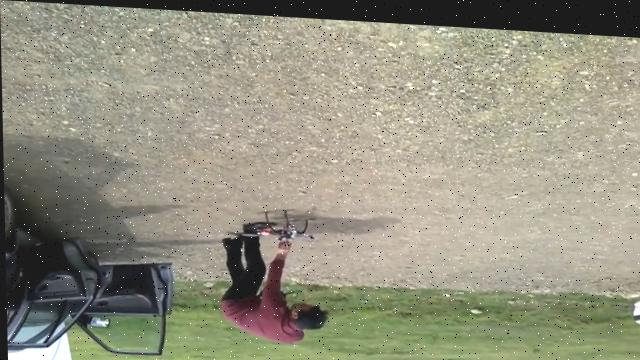drone: (241, 208, 316, 244)
